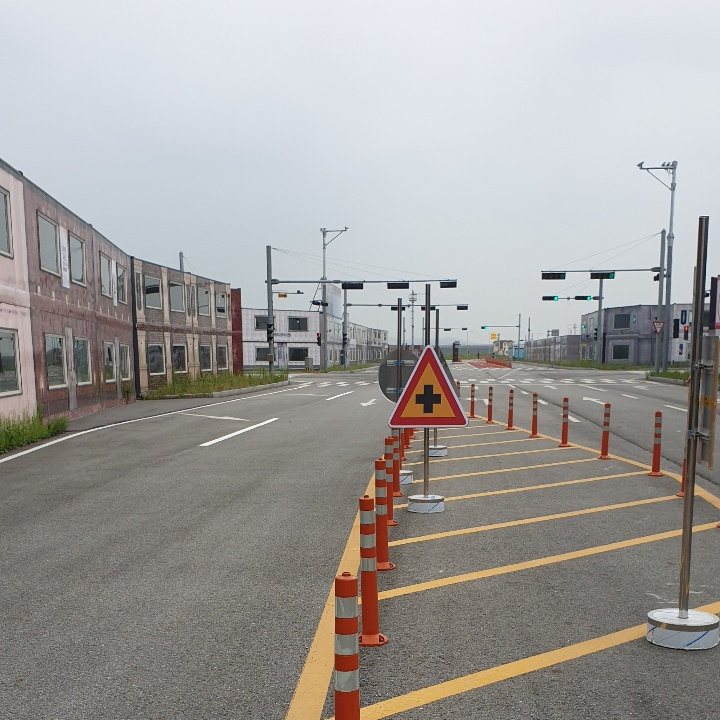inter: (409, 381, 446, 419)
